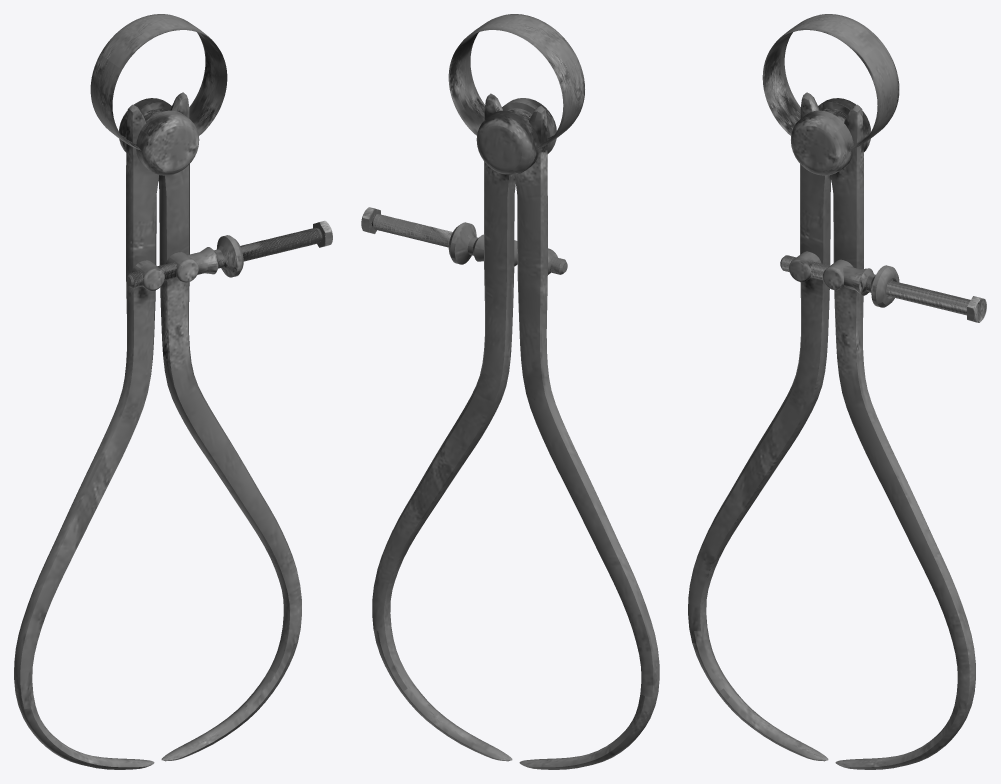
The model's file is medical_forceps.glb.
3 renders of one model, left to right at view 1: azimuth 30°, elevation 25°; view 2: azimuth 150°, elevation 25°; view 3: azimuth 330°, elevation 25°, orthographic.
Visible parts, largest first — view 1: Cylinder_mat_0_1; view 2: Cylinder_mat_0_1; view 3: Cylinder_mat_0_1.
Part boxes in pixels (x1,y1,x2,y2): Cylinder_mat_0_1: [14, 14, 332, 769]; Cylinder_mat_0_1: [361, 14, 659, 769]; Cylinder_mat_0_1: [688, 14, 986, 769].
Size of the model in its own units: 1.28 by 3 by 0.2597.
1 material, 1 textured.
